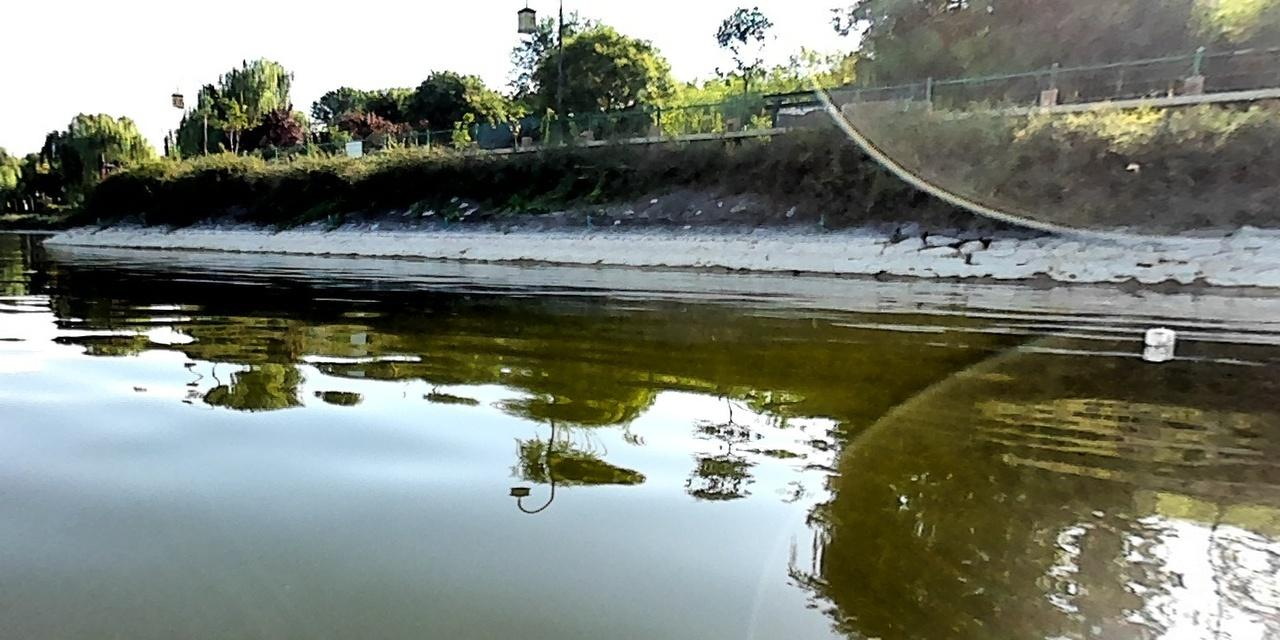bottle: (1141, 324, 1177, 345)
